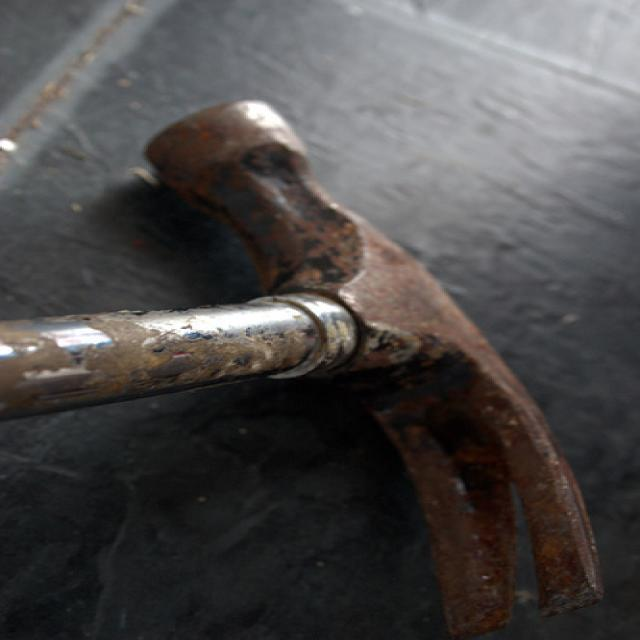hammer: (0, 92, 619, 640)
